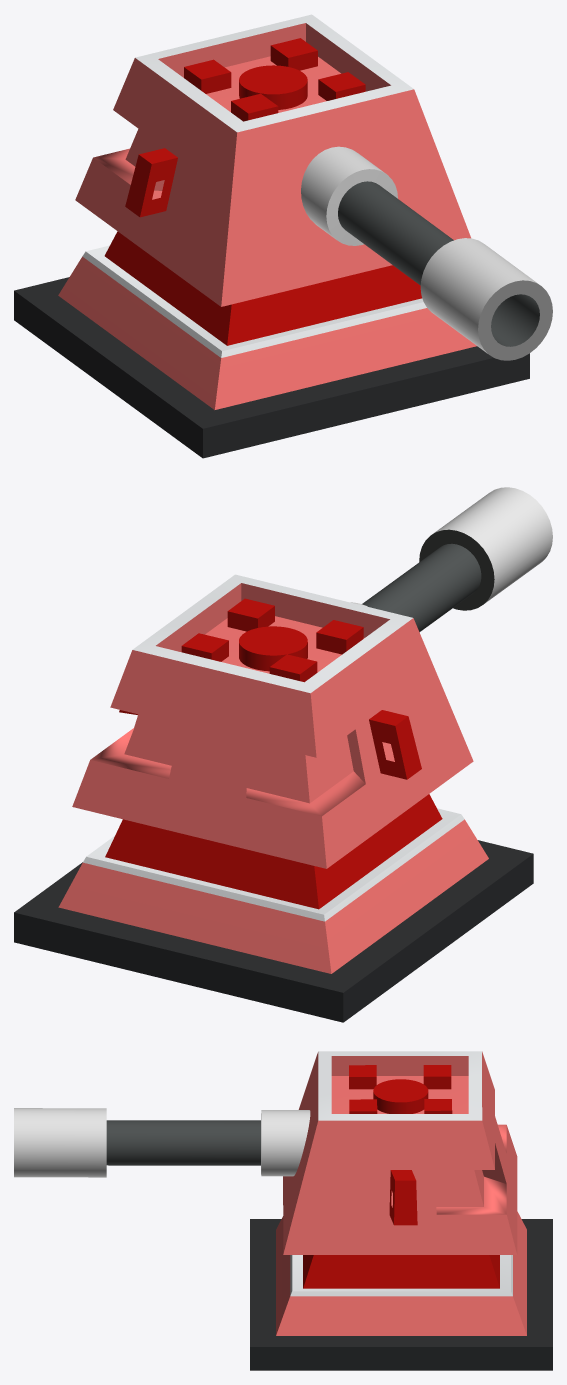
Rendered from Gator Siege_turret3.fbx.
The picture shows the model from 3 angles, top to bottom: view 1: azimuth 30°, elevation 25°; view 2: azimuth 150°, elevation 25°; view 3: azimuth 270°, elevation 25°; orthographic projection. The views are drawn at different scales.
Visible parts, largest first — view 1: turret1.006, turret1.005; view 2: turret1.006, turret1.005; view 3: turret1.006, turret1.005.
Boxes of the visible parts, bbox=[...] form: turret1.006: bbox=[75, 14, 552, 360]; turret1.005: bbox=[14, 231, 529, 458]; turret1.006: bbox=[72, 487, 552, 868]; turret1.005: bbox=[14, 794, 533, 1022]; turret1.006: bbox=[14, 1051, 517, 1254]; turret1.005: bbox=[250, 1211, 552, 1370].
Bounding box in the file's own units: 0.1958 × 0.3484 × 0.1586.
